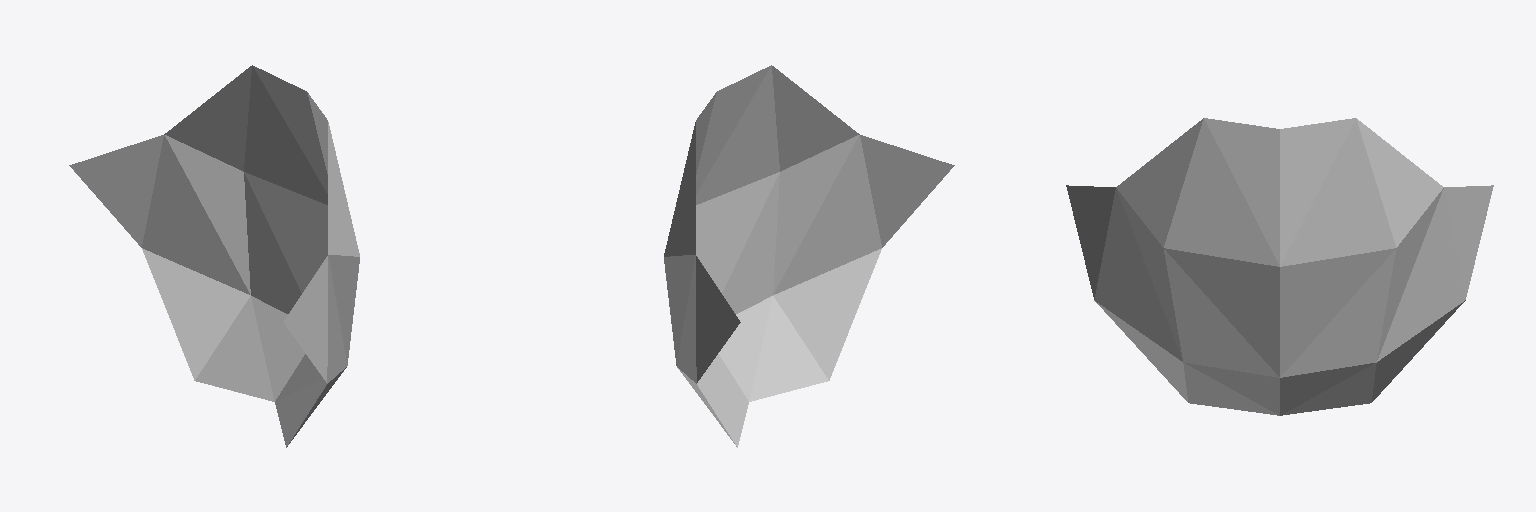
The model's file is tutuphelm.obj.
3 views of the same model, side by side, from view 1: azimuth 30°, elevation 25°; view 2: azimuth 150°, elevation 25°; view 3: azimuth 270°, elevation 25° (orthographic).
Visible parts, largest first — view 1: Body.000; view 2: Body.000; view 3: Body.000.
Part boxes in pixels (x1,y1,x2,y2): Body.000: (69,65,359,447); Body.000: (664,65,954,447); Body.000: (1066,118,1493,415).
Size of the model in its own units: 0.2043 by 0.3785 by 0.474.